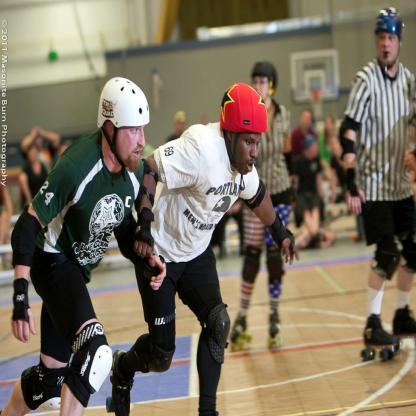Helmet: (98, 77, 150, 182), (220, 82, 268, 190), (374, 8, 404, 65), (251, 60, 277, 106), (304, 133, 316, 153), (174, 112, 186, 123)
